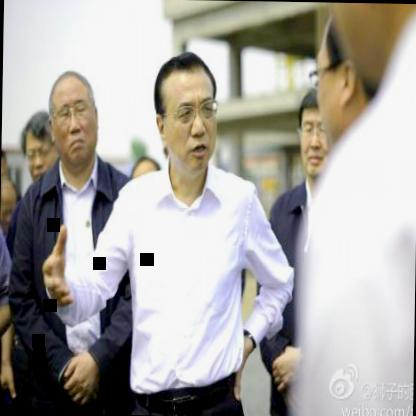head: (147, 43, 222, 175), (310, 2, 374, 153), (44, 63, 102, 170), (296, 84, 327, 178), (22, 106, 56, 186)
